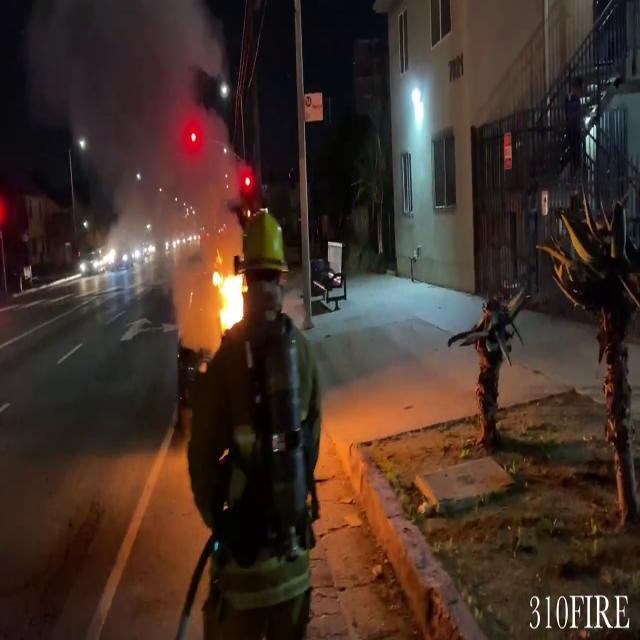Fire: (210, 255, 248, 342)
Smoke: (30, 0, 215, 273)
